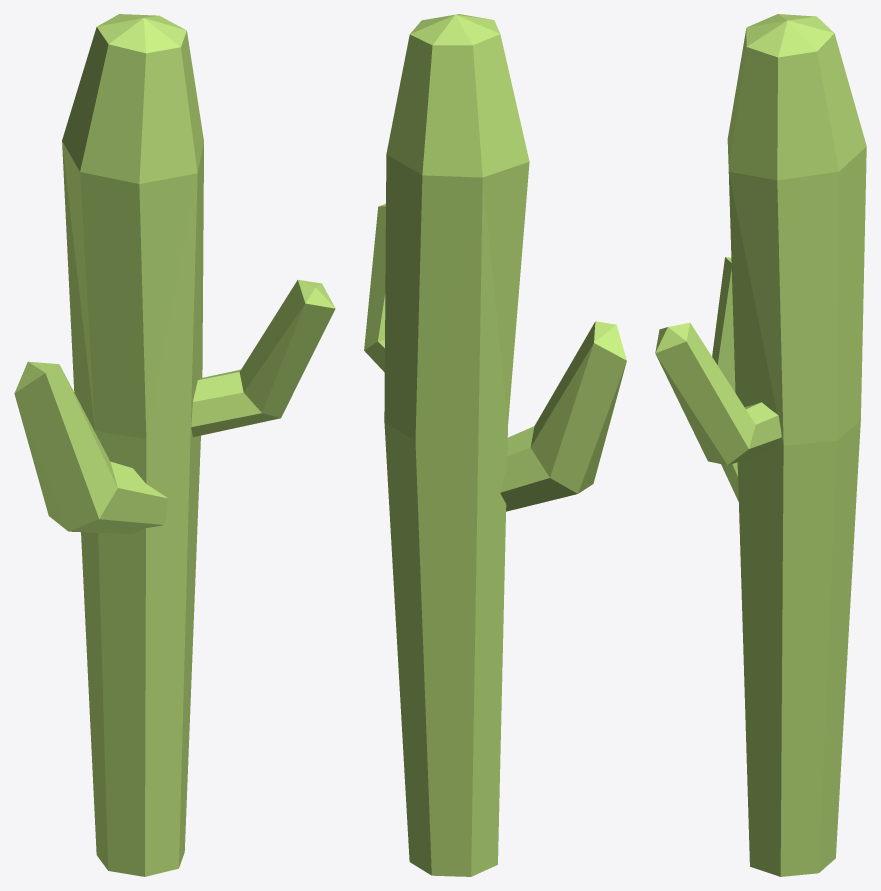
The model's file is Cactus_l_05.fbx.
3 views of the same model, side by side, from view 1: azimuth 30°, elevation 25°; view 2: azimuth 150°, elevation 25°; view 3: azimuth 270°, elevation 25° (orthographic).
Visible parts, largest first — view 1: Cactus_l_05; view 2: Cactus_l_05; view 3: Cactus_l_05.
Part boxes in pixels (left/top/right/bottom): Cactus_l_05: left=14, top=14, right=335, bottom=876; Cactus_l_05: left=364, top=14, right=626, bottom=876; Cactus_l_05: left=655, top=14, right=866, bottom=876.
Size of the model in its own units: 138 by 400 by 91.55.
